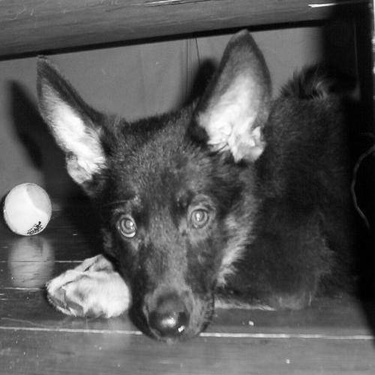dog: (22, 18, 372, 345)
